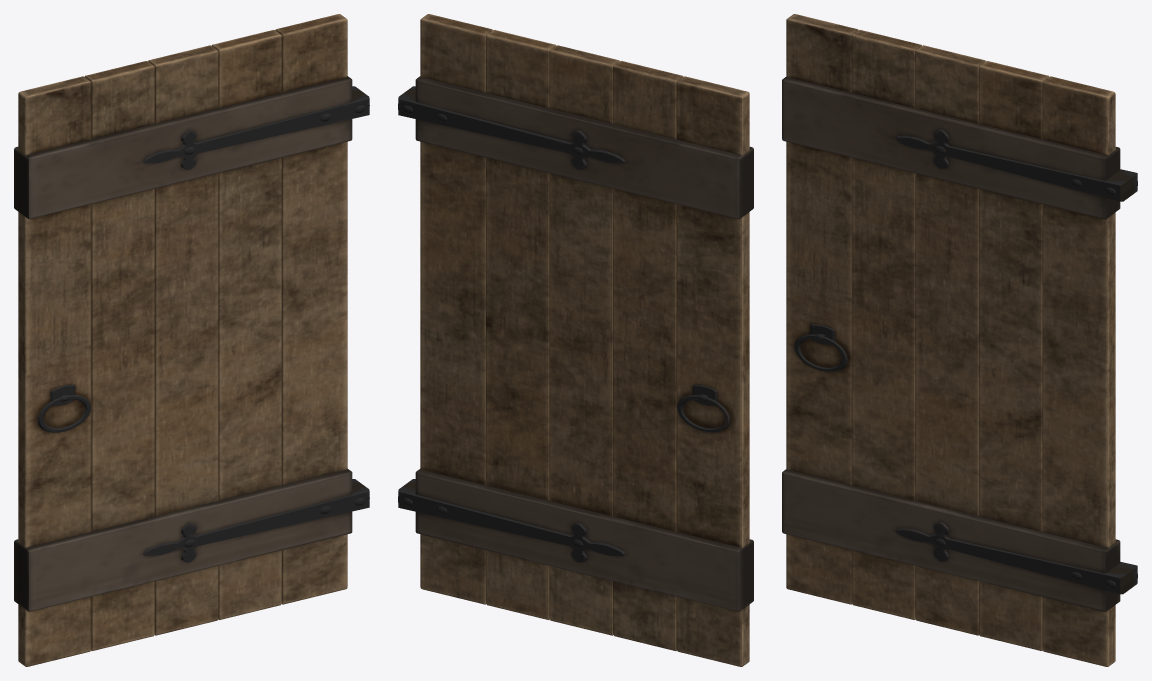
The model's file is BW_FamilyCottageB01_ServiceDoor.fbx.
3 views of the same model, side by side, from view 1: azimuth 30°, elevation 25°; view 2: azimuth 150°, elevation 25°; view 3: azimuth 330°, elevation 25° (orthographic).
Visible parts, largest first — view 1: BW_FamilyCottageB01_ServiceDoor; view 2: BW_FamilyCottageB01_ServiceDoor; view 3: BW_FamilyCottageB01_ServiceDoor.
Part boxes in pixels (box(x1,y1,x2,y2)): BW_FamilyCottageB01_ServiceDoor: box(14, 14, 369, 666); BW_FamilyCottageB01_ServiceDoor: box(398, 14, 753, 666); BW_FamilyCottageB01_ServiceDoor: box(782, 14, 1137, 666).
Bounding box in the file's own units: 1.36 × 2.17 × 0.1318.
